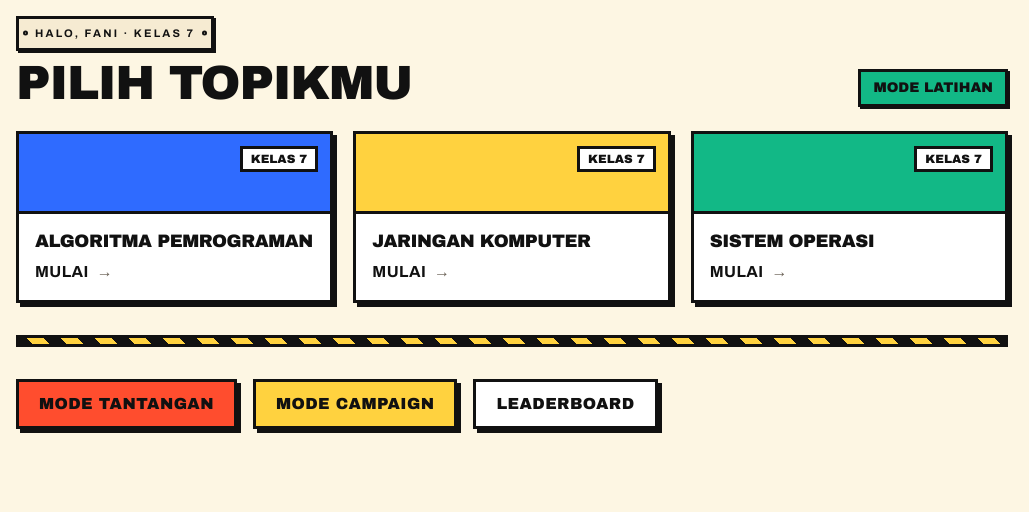
Test: Topics page › displays error alert and re-enables buttons if startQuiz fails
Click the button "Kelas 7 Algoritma Pemrograman Mulai →".
click(175, 217)  # box [16,130,333,303]
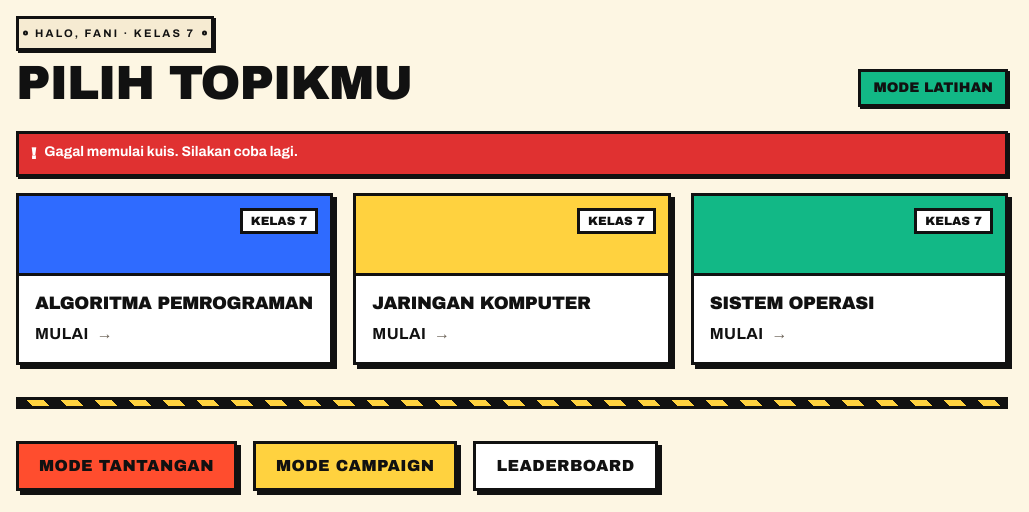
expect the button "Kelas 7 Algoritma Pemrograman Mulai →" is enabled: met, box [16,192,333,365]
expect the message shows "Gagal memulai kuis. Silakan coba lagi.": met, box [44,144,298,158]
